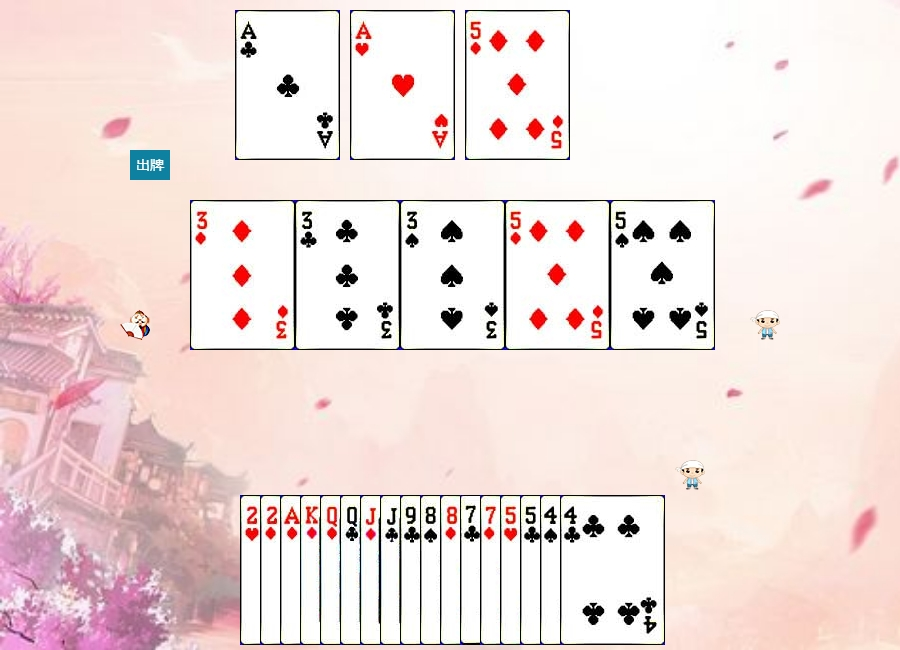11~1: (360, 495, 465, 645)
11~2: (380, 495, 485, 645)
12~1: (320, 495, 425, 645)
12~2: (340, 495, 445, 645)
13~1: (300, 495, 405, 645)
14~1: (280, 495, 385, 645)
14~2: (235, 10, 340, 160)
14~3: (350, 10, 455, 160)
15~1: (260, 495, 365, 645)
15~3: (240, 495, 345, 645)
3~1: (190, 200, 295, 350)
3~2: (295, 200, 400, 350)
3~4: (400, 200, 505, 350)
4~2: (560, 495, 665, 645)
4~4: (540, 495, 645, 645)
5~1: (465, 10, 570, 160), (505, 200, 610, 350)
5~2: (520, 495, 625, 645)
5~3: (500, 495, 605, 645)
5~4: (610, 200, 715, 350)
7~1: (480, 495, 585, 645)
7~2: (460, 495, 565, 645)
8~1: (440, 495, 545, 645)
8~4: (420, 495, 525, 645)
9~2: (400, 495, 505, 645)
